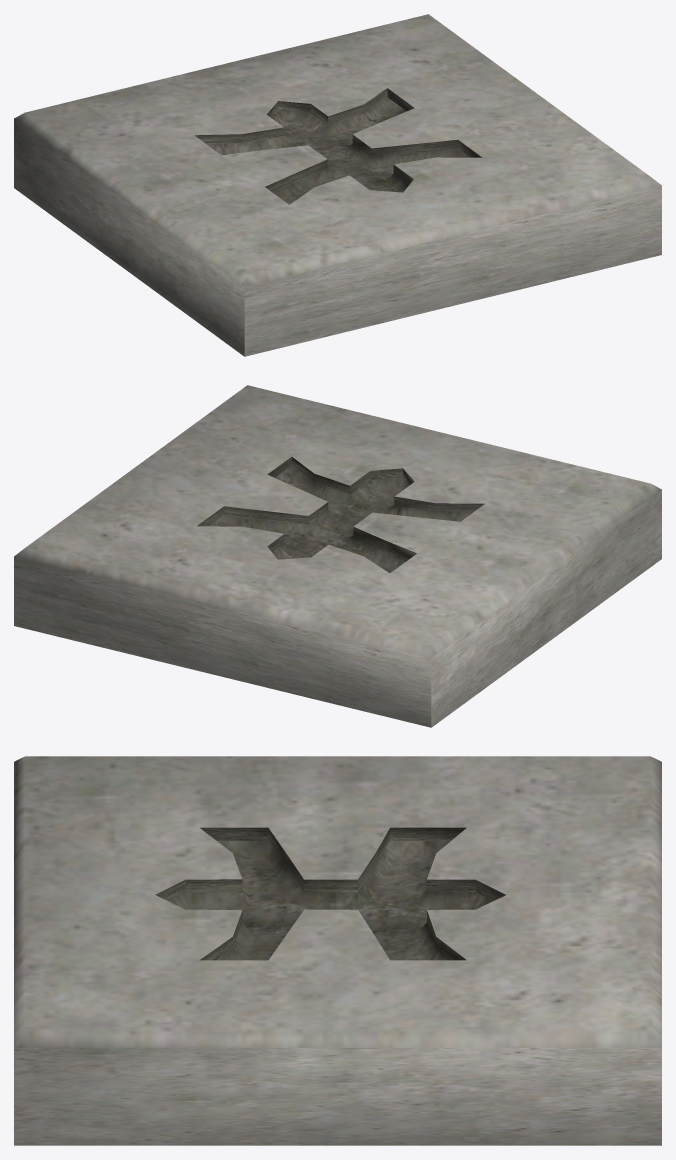
File: DWARF_PALACE_THRONE_KEYPAD02.fbx
3 views of the same model, one above another, from view 1: azimuth 30°, elevation 25°; view 2: azimuth 150°, elevation 25°; view 3: azimuth 270°, elevation 25° (orthographic). The views are drawn at different scales.
Visible parts, largest first — view 1: DWARF_PALACE_THRONE_KEYPAD02; view 2: DWARF_PALACE_THRONE_KEYPAD02; view 3: DWARF_PALACE_THRONE_KEYPAD02.
Boxes of the visible parts, x1=… form: DWARF_PALACE_THRONE_KEYPAD02: x1=14, y1=14, x2=661, y2=356; DWARF_PALACE_THRONE_KEYPAD02: x1=14, y1=385, x2=661, y2=727; DWARF_PALACE_THRONE_KEYPAD02: x1=14, y1=756, x2=661, y2=1145.
Bounding box in the file's own units: 14154 × 2481 × 13544.
Materials: 2 (2 with a texture image).
